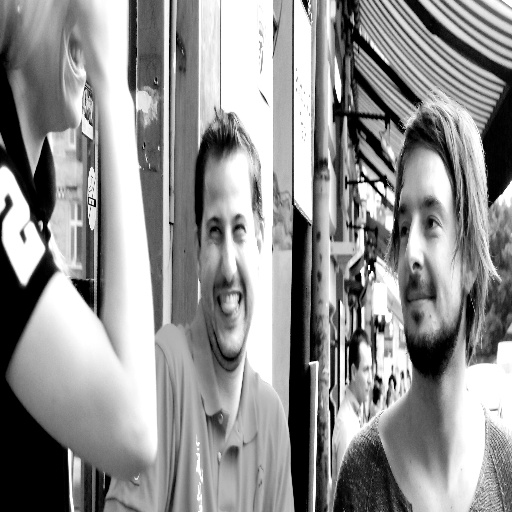hand: (0, 0, 155, 477)
